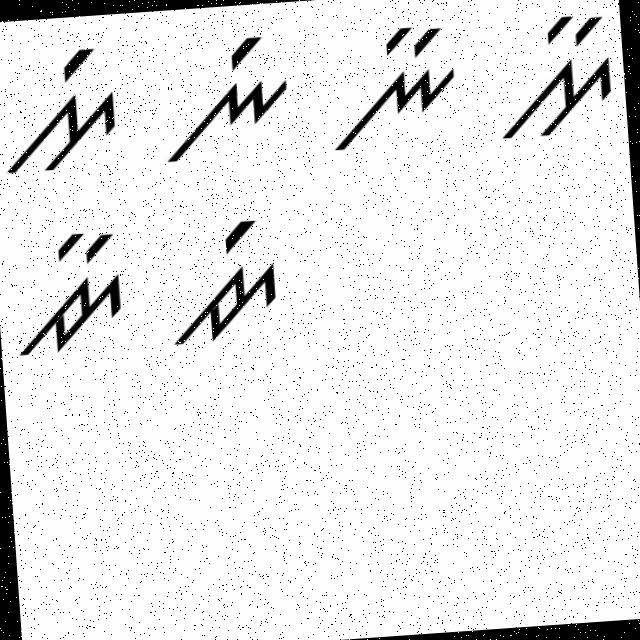jan: (9, 225, 134, 360)
jang: (162, 211, 288, 348)
nyan: (328, 17, 468, 154)
nyang: (156, 32, 295, 166)
san: (493, 12, 620, 144)
sang: (0, 41, 133, 178)
